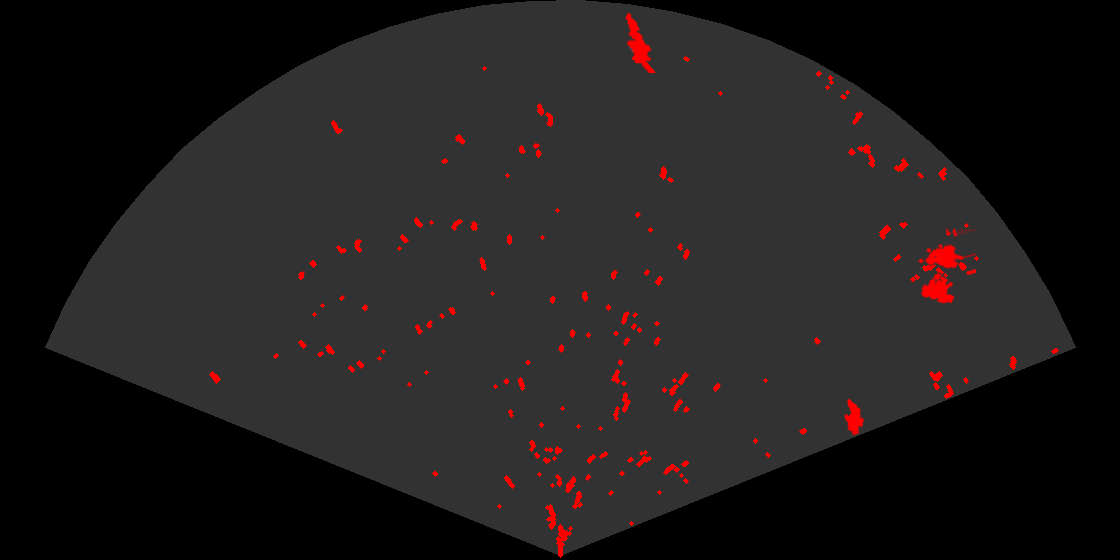AUV: (843, 397, 866, 437)
cage: (916, 229, 976, 305)
frogman: (624, 11, 657, 73)
